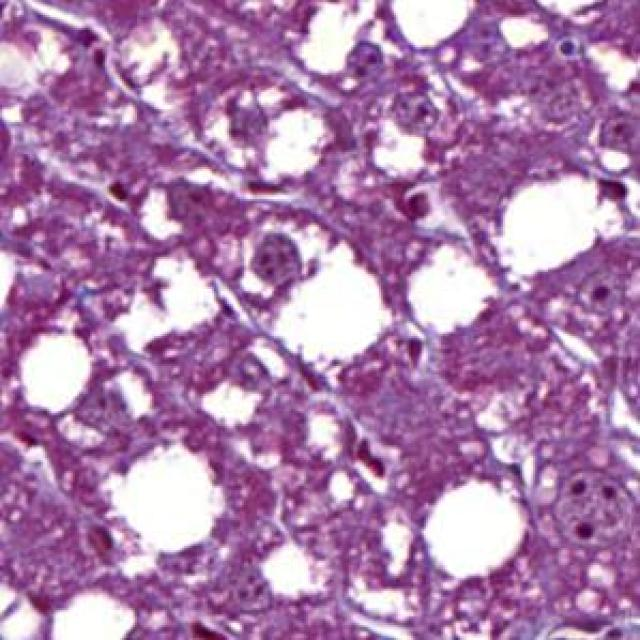steatosis: (424, 484, 531, 574), (9, 323, 100, 415)
